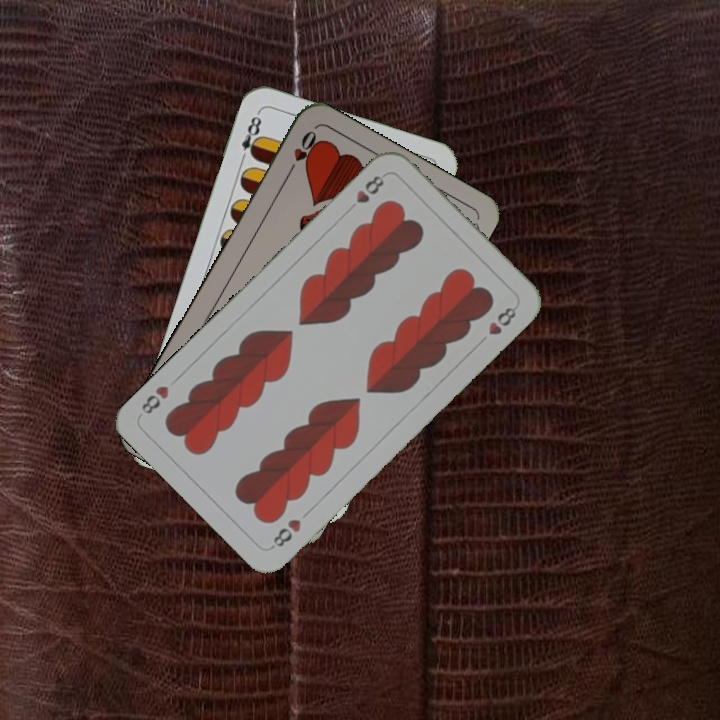E8: (236, 109, 265, 166)
H8: (342, 171, 387, 216), (266, 515, 304, 552)
HO: (283, 126, 321, 179)
